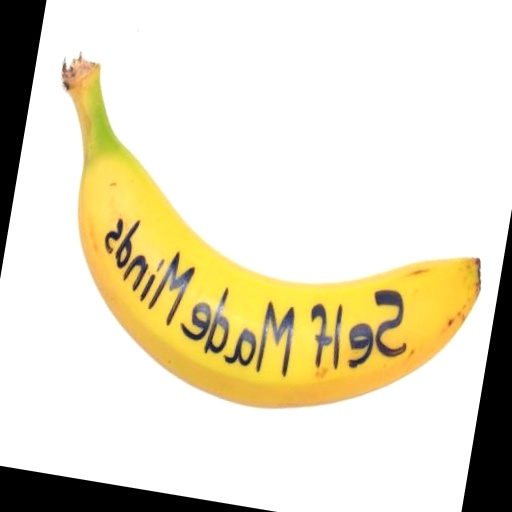fruit: (61, 55, 479, 407)
